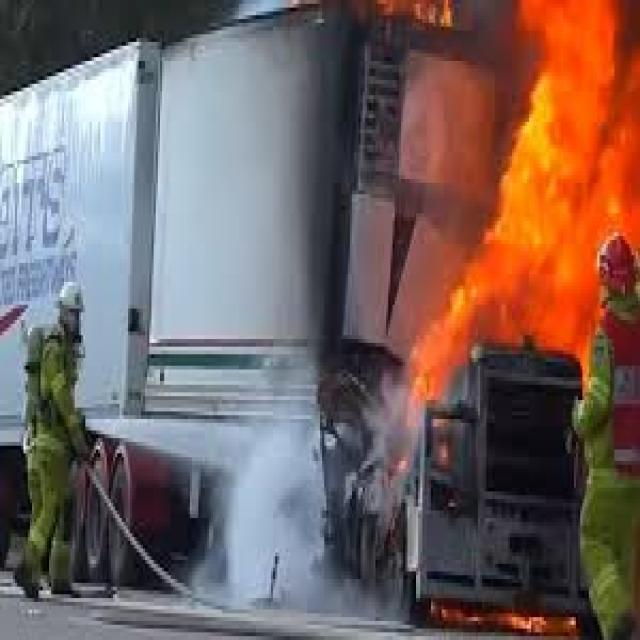Fire: (369, 1, 640, 399), (441, 599, 578, 633)
Smoke: (180, 356, 368, 616)
